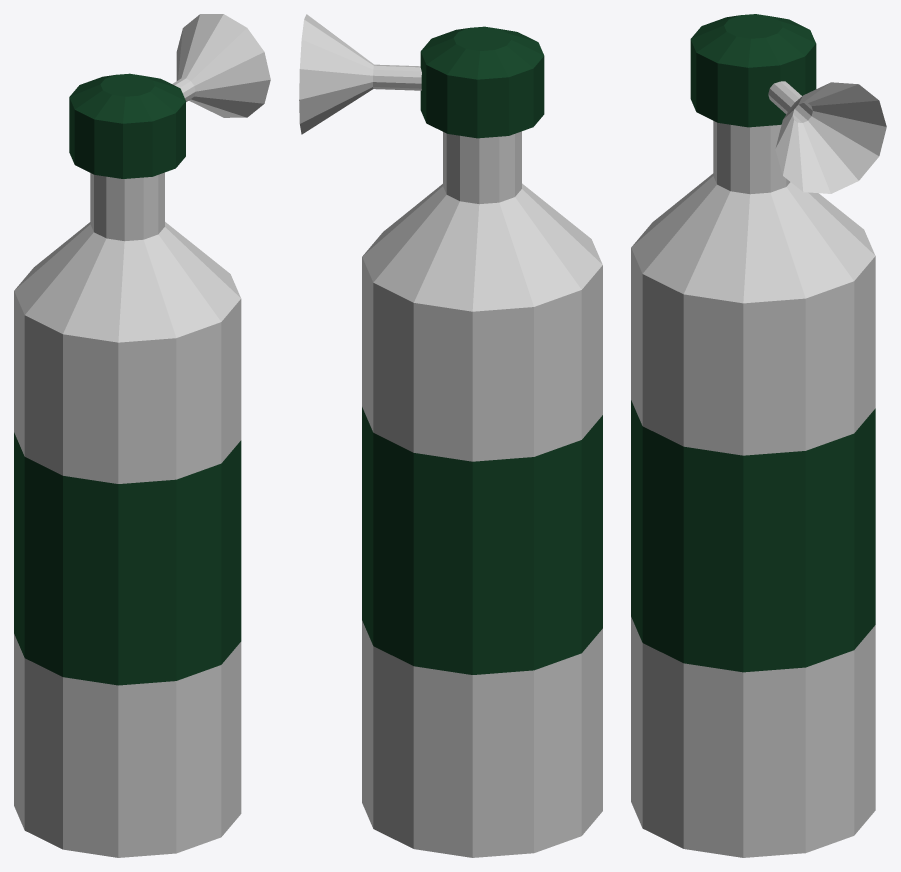
File: Rat_Repellent.fbx
3 views of the same model, side by side, from view 1: azimuth 30°, elevation 25°; view 2: azimuth 150°, elevation 25°; view 3: azimuth 270°, elevation 25° (orthographic). The views are drawn at different scales.
Visible parts, largest first — view 1: RatRepellent; view 2: RatRepellent; view 3: RatRepellent.
Boxes of the visible parts, box(x1,y1,x2,y2) form: RatRepellent: box(14, 14, 270, 857); RatRepellent: box(299, 14, 602, 857); RatRepellent: box(631, 14, 886, 857).
Size of the model in its own units: 255 by 714 by 209.
